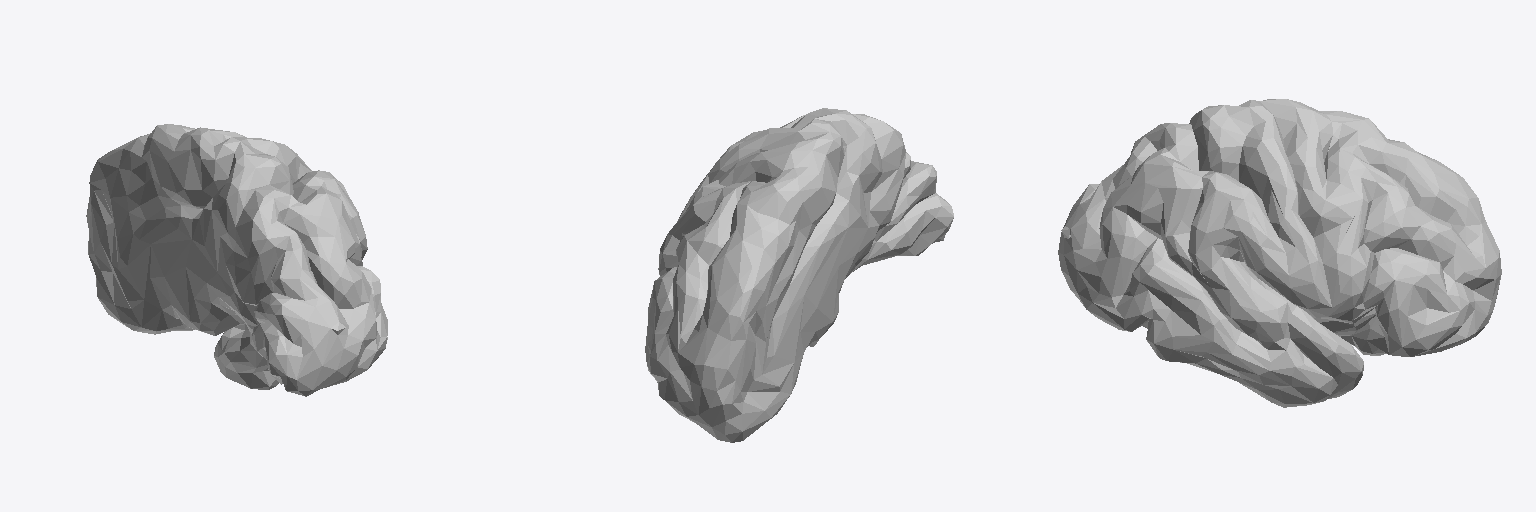
The model's file is brain_right.obj.
The picture shows the model from 3 angles: view 1: azimuth 30°, elevation 25°; view 2: azimuth 150°, elevation 25°; view 3: azimuth 270°, elevation 25°; orthographic projection.
Visible parts, largest first — view 1: brain_right_Brain.002; view 2: brain_right_Brain.002; view 3: brain_right_Brain.002.
Boxes of the visible parts, box(x1,y1,x2,y2) form: brain_right_Brain.002: box(86, 124, 387, 396); brain_right_Brain.002: box(645, 108, 953, 442); brain_right_Brain.002: box(1058, 99, 1501, 407).
Size of the model in its own units: 2.82 by 4.16 by 6.24.